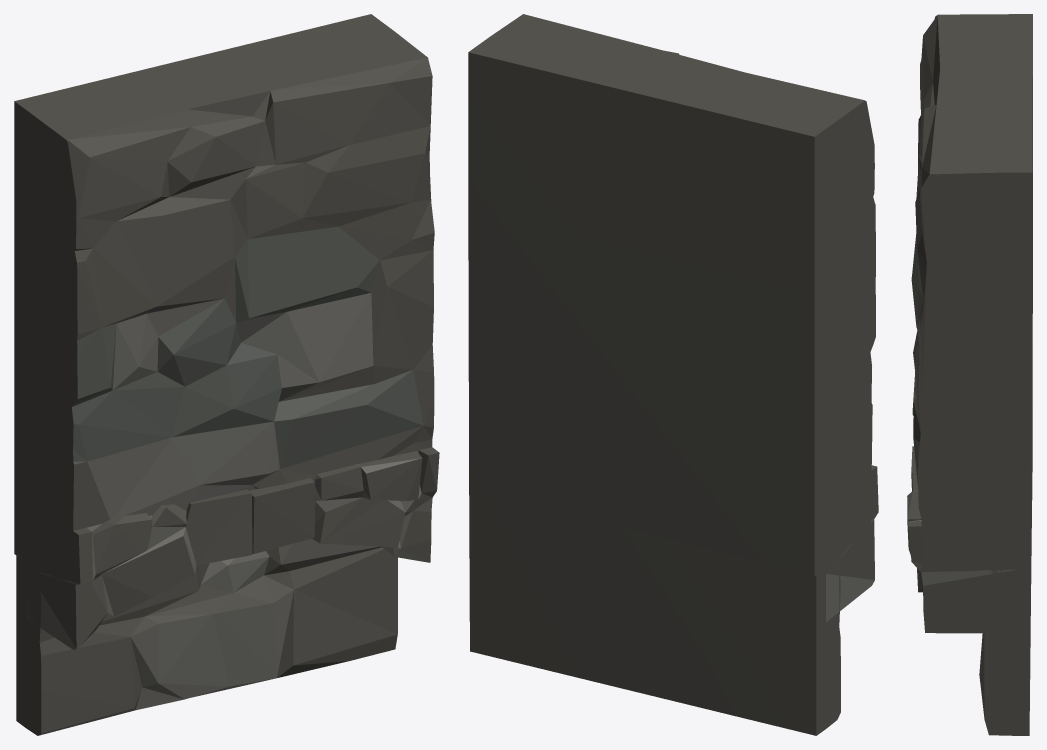
Rendered from MDungeons_Walls_Arch_Low_Half.FBX.
3 renders of one model, left to right at view 1: azimuth 30°, elevation 25°; view 2: azimuth 150°, elevation 25°; view 3: azimuth 270°, elevation 25°, orthographic. The views are drawn at different scales.
Parts seen in each view (by area): view 1: MDungeons_Walls_Arch_Low_Half_LOD0; view 2: MDungeons_Walls_Arch_Low_Half_LOD0; view 3: MDungeons_Walls_Arch_Low_Half_LOD0.
Boxes of the visible parts, x1,y1,x2,y2 form: MDungeons_Walls_Arch_Low_Half_LOD0: [14, 14, 439, 735]; MDungeons_Walls_Arch_Low_Half_LOD0: [468, 14, 878, 735]; MDungeons_Walls_Arch_Low_Half_LOD0: [907, 14, 1032, 735].
Size of what is drawn, in the model's own units: 3.63 by 6 by 1.21.
